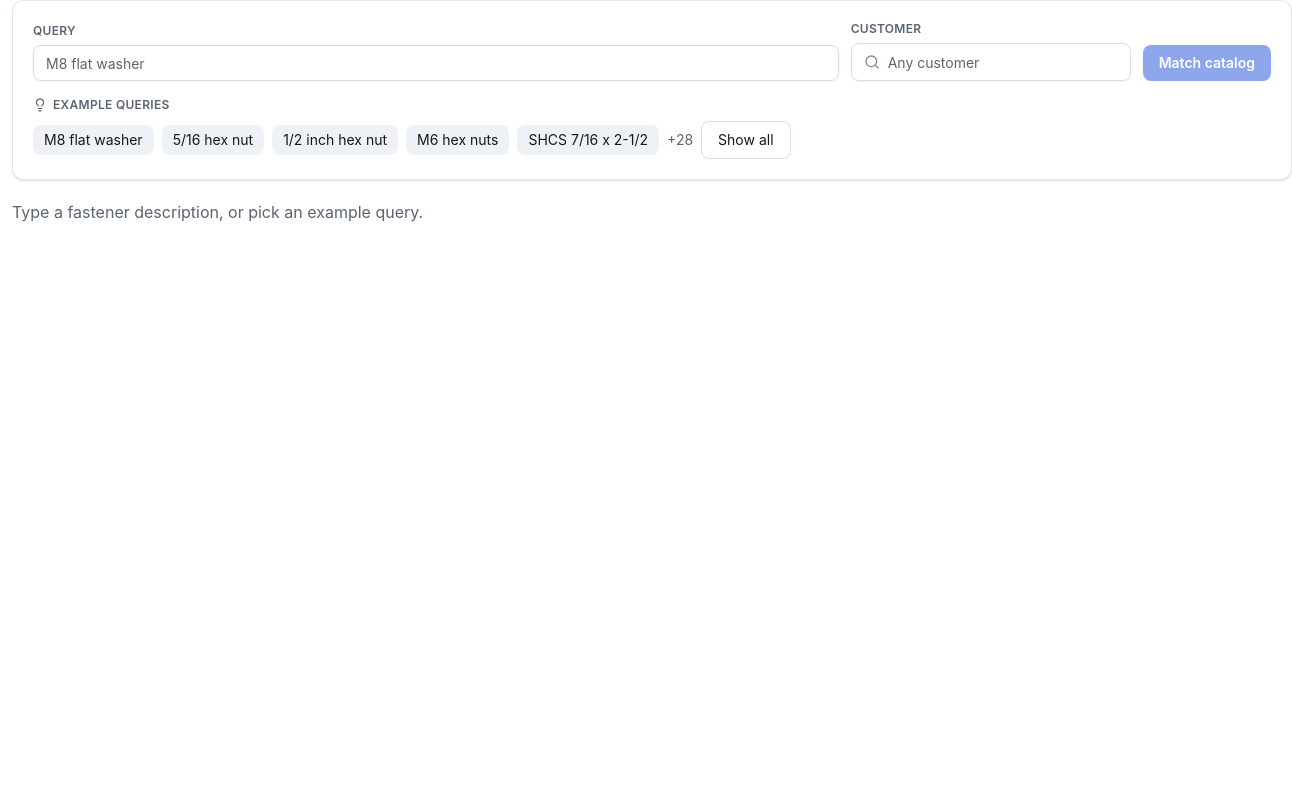
Test: ResultsPanel › shows a tie as a count, the attributes that would settle it, and every card returned
In the field labelled "Query": coordinates (436, 63) [33,45,839,81], type "M12 hex nut"
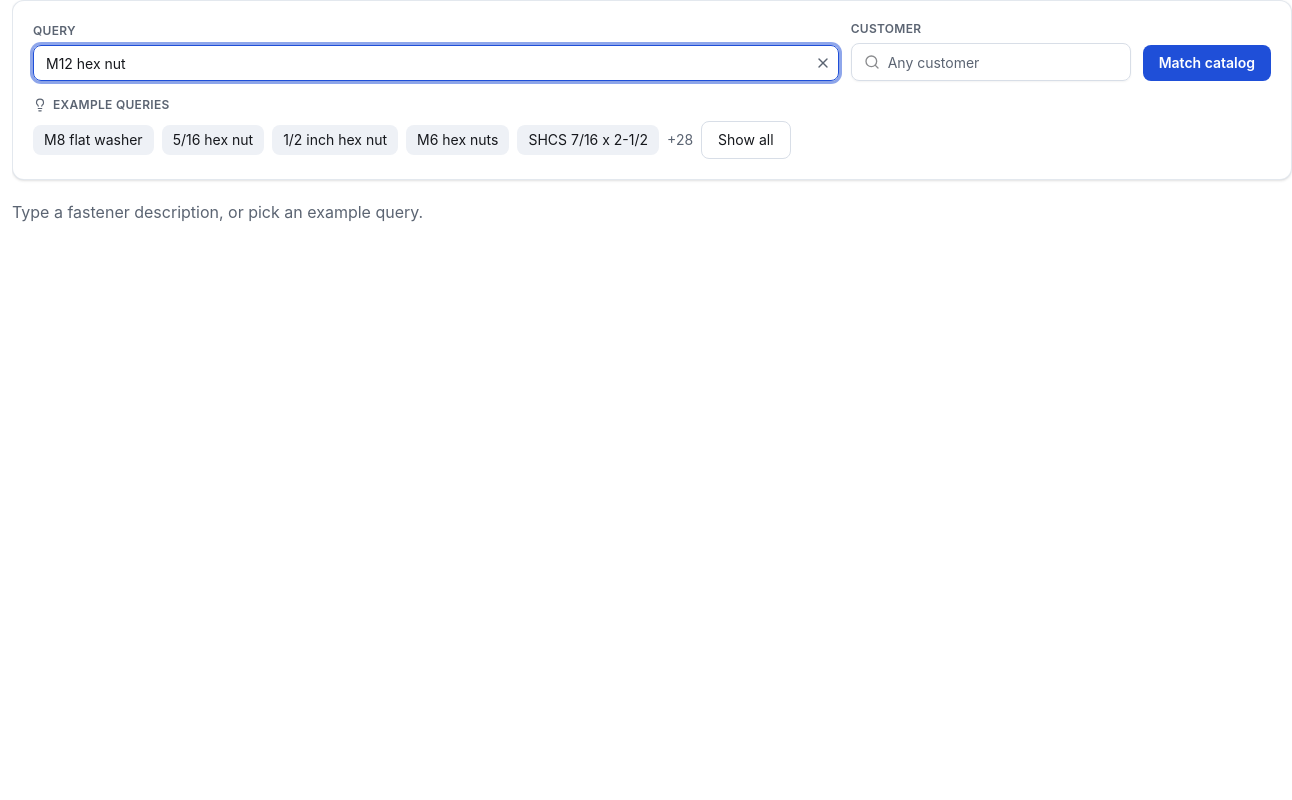
Click the button "Match catalog": coordinates (1207, 63) [1143,45,1271,81]
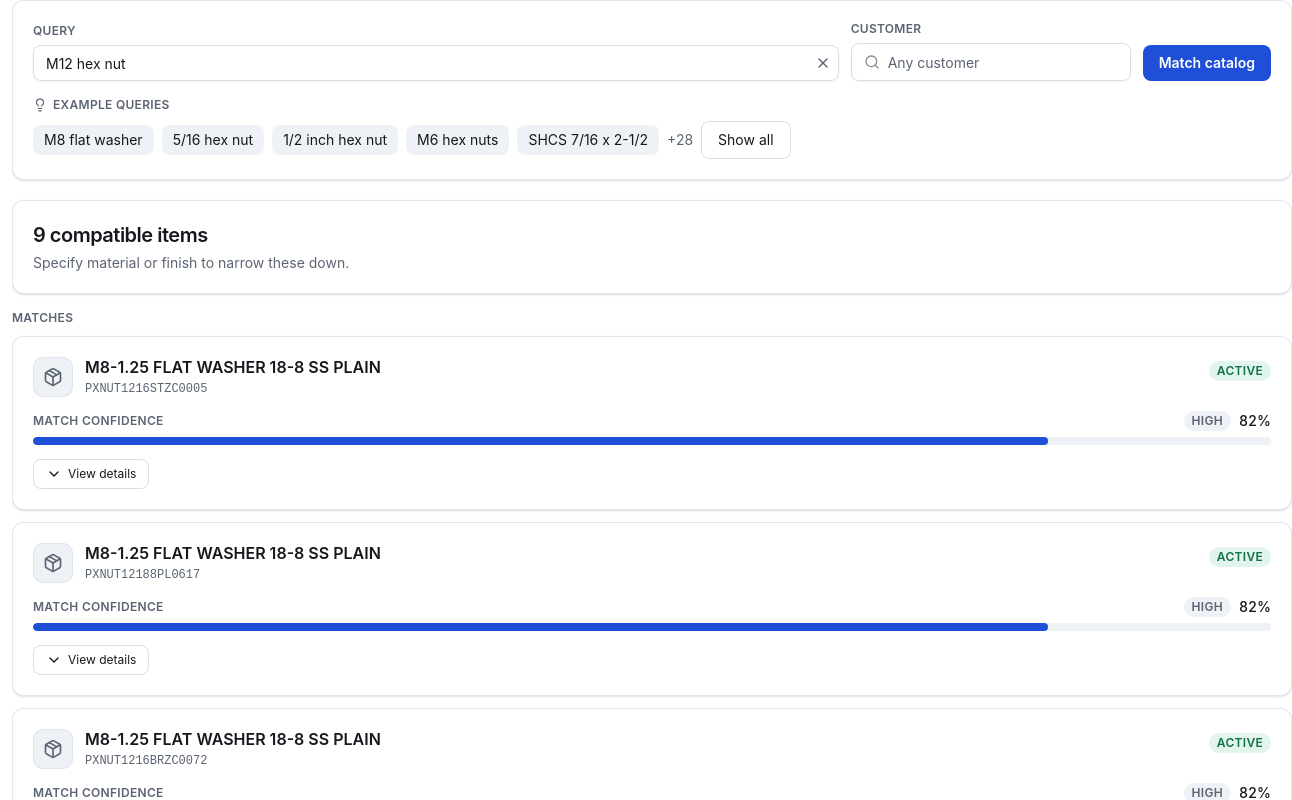
expect the heading "9 compatible items" is shown: met, box [33,223,208,247]
expect the text "Specify material or finish to narrow these down." is shown: met, box [33,254,349,271]
